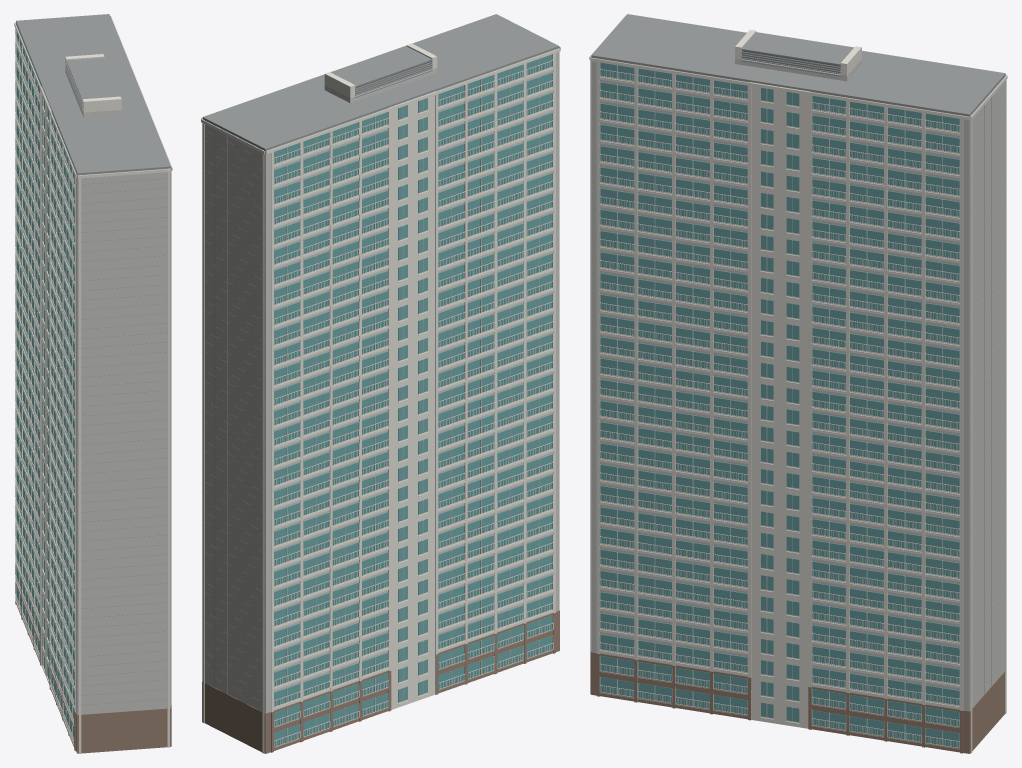
The model's file is bespoke-jamsil-els-148.glb.
3 views of the same model, side by side, from view 1: azimuth 30°, elevation 25°; view 2: azimuth 150°, elevation 25°; view 3: azimuth 270°, elevation 25° (orthographic). The views are drawn at different scales.
Parts seen in each view (by area): view 1: Els148_editable_Els148_light_grey_solid_wall, Els148_editable_Els148_turquoise_balcony_glazing, Els148_editable_Els148_modest_grey_flat_roof_caps, Els148_white_exact_chunk_3, Els148_white_exact_chunk_0, Els148_white_exact_chunk_1, Els148_white_exact_chunk_2, Els148_editable_Els148_muted_ground_wall, Els148_white_exact_chunk_7, Els148_white_exact_chunk_5; view 2: Els148_editable_Els148_turquoise_balcony_glazing, Els148_editable_Els148_light_grey_solid_wall, Els148_white_exact_chunk_0, Els148_white_exact_chunk_1, Els148_white_exact_chunk_3, Els148_editable_Els148_modest_grey_flat_roof_caps, Els148_white_exact_chunk_2, Els148_editable_Els148_muted_ground_wall, Els148_white_exact_chunk_7; view 3: Els148_editable_Els148_turquoise_balcony_glazing, Els148_editable_Els148_light_grey_solid_wall, Els148_white_exact_chunk_3, Els148_white_exact_chunk_5, Els148_white_exact_chunk_4, Els148_white_exact_chunk_6, Els148_white_exact_chunk_7, Els148_editable_Els148_modest_grey_flat_roof_caps, Els148_editable_Els148_muted_ground_wall, Els148_white_exact_chunk_0.
Boxes of the visible parts, x1,y1,x2,y2 form: Els148_editable_Els148_light_grey_solid_wall: [16, 23, 170, 714]; Els148_editable_Els148_turquoise_balcony_glazing: [16, 28, 75, 742]; Els148_editable_Els148_modest_grey_flat_roof_caps: [16, 14, 170, 714]; Els148_white_exact_chunk_3: [14, 22, 171, 753]; Els148_white_exact_chunk_0: [15, 22, 51, 686]; Els148_white_exact_chunk_1: [15, 25, 55, 699]; Els148_white_exact_chunk_2: [50, 116, 68, 729]; Els148_editable_Els148_muted_ground_wall: [15, 565, 171, 753]; Els148_white_exact_chunk_7: [65, 15, 172, 170]; Els148_white_exact_chunk_5: [146, 103, 171, 705]; Els148_editable_Els148_turquoise_balcony_glazing: [273, 54, 552, 746]; Els148_editable_Els148_light_grey_solid_wall: [203, 48, 559, 713]; Els148_white_exact_chunk_0: [201, 91, 435, 753]; Els148_white_exact_chunk_1: [271, 108, 465, 731]; Els148_white_exact_chunk_3: [266, 47, 560, 694]; Els148_editable_Els148_modest_grey_flat_roof_caps: [202, 14, 559, 711]; Els148_white_exact_chunk_2: [438, 74, 524, 679]; Els148_editable_Els148_muted_ground_wall: [202, 610, 559, 753]; Els148_white_exact_chunk_7: [201, 43, 437, 119]; Els148_editable_Els148_turquoise_balcony_glazing: [600, 62, 959, 747]; Els148_editable_Els148_light_grey_solid_wall: [591, 57, 1005, 711]; Els148_white_exact_chunk_3: [589, 16, 1006, 728]; Els148_white_exact_chunk_5: [596, 58, 846, 730]; Els148_white_exact_chunk_4: [599, 63, 709, 709]; Els148_white_exact_chunk_6: [811, 96, 959, 748]; Els148_white_exact_chunk_7: [590, 29, 969, 729]; Els148_editable_Els148_modest_grey_flat_roof_caps: [591, 14, 1005, 708]; Els148_editable_Els148_muted_ground_wall: [590, 652, 1004, 753]; Els148_white_exact_chunk_0: [970, 75, 1007, 753].
Size of the model in its own units: 28.34 by 85 by 49.08.
